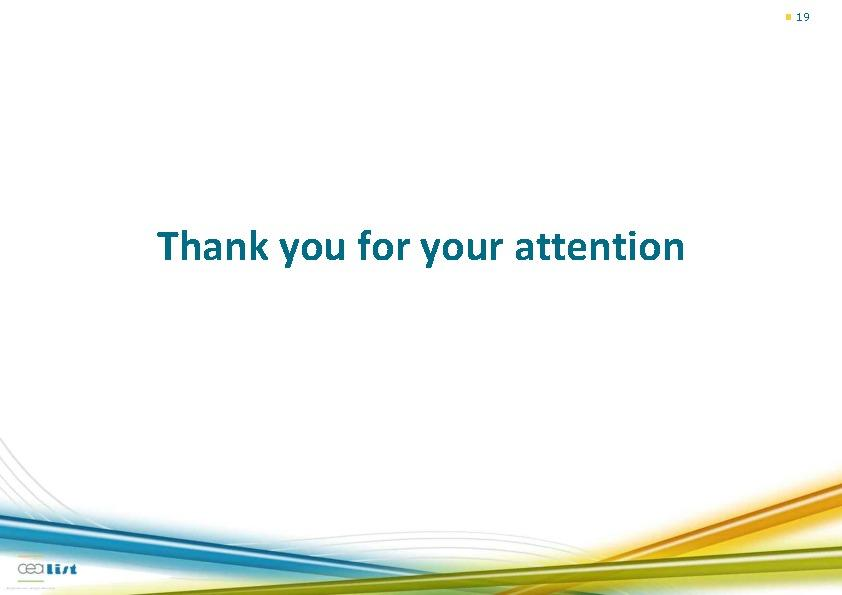title: (143, 207, 700, 281)
